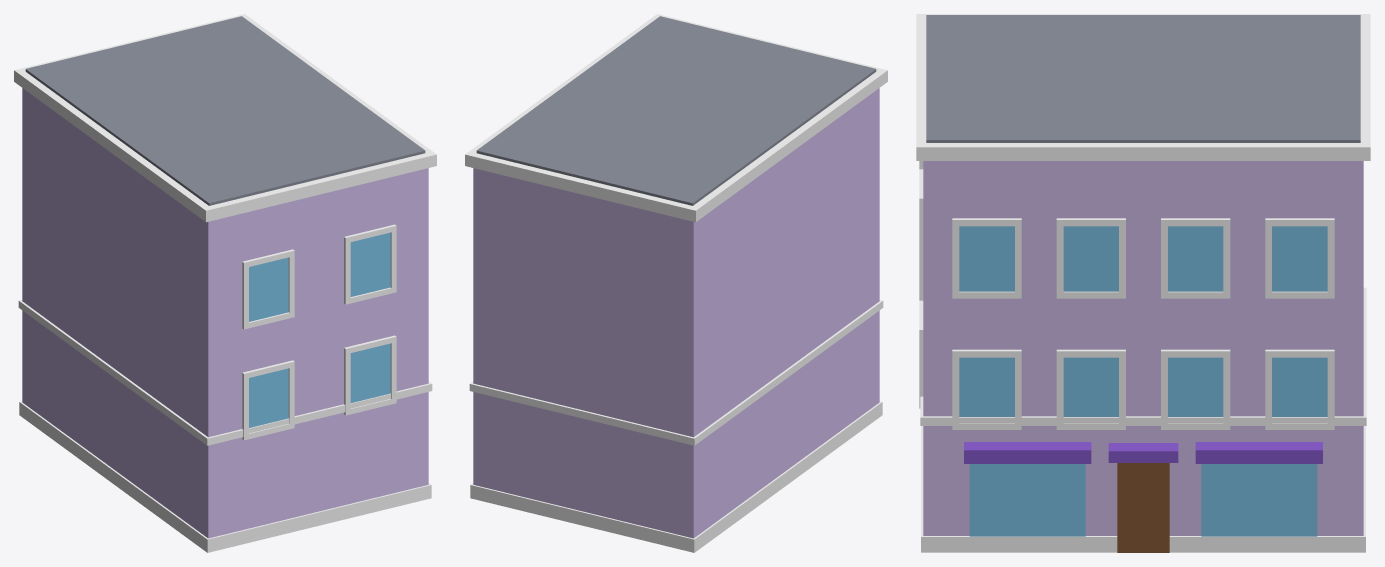
File: prop_building5.glb
3 views of the same model, side by side, from view 1: azimuth 30°, elevation 25°; view 2: azimuth 150°, elevation 25°; view 3: azimuth 270°, elevation 25° (orthographic). The views are drawn at different scales.
Parts seen in each view (by area): view 1: main, roof, trim, glass, frames; view 2: main, roof, trim; view 3: main, roof, glass, trim, frames, awning, door.
Boxes of the visible parts, left/top/right/bottom form: main: left=22, top=88, right=428, bottom=538; roof: left=25, top=16, right=425, bottom=205; trim: left=14, top=14, right=436, bottom=552; glass: left=249, top=232, right=390, bottom=427; frames: left=242, top=224, right=396, bottom=440; main: left=473, top=88, right=879, bottom=538; roof: left=476, top=16, right=876, bottom=205; trim: left=465, top=14, right=887, bottom=552; main: left=923, top=161, right=1363, bottom=535; roof: left=926, top=15, right=1360, bottom=142; glass: left=959, top=226, right=1327, bottom=536; trim: left=916, top=14, right=1370, bottom=552; frames: left=919, top=161, right=1334, bottom=429; awning: left=964, top=442, right=1322, bottom=463; door: left=1117, top=463, right=1169, bottom=552.
Bounding box in the file's own units: 5.66 × 7.82 × 7.84.
